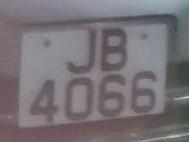0: (60, 74, 98, 125)
4: (26, 72, 65, 126)
6: (126, 69, 162, 118), (95, 74, 131, 122)
B: (93, 23, 133, 77)
J: (61, 25, 101, 78)
